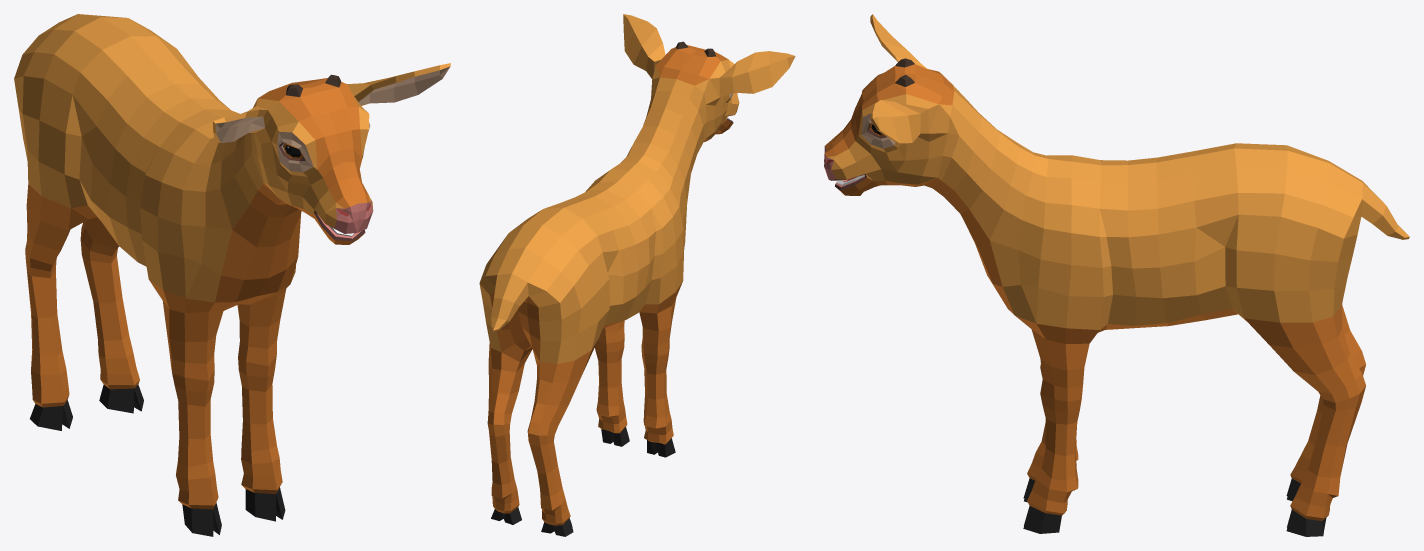
File: LowPoly_Goatling_4.obj
The picture shows the model from 3 angles, left to right: view 1: azimuth 30°, elevation 25°; view 2: azimuth 150°, elevation 25°; view 3: azimuth 270°, elevation 25°; orthographic projection. The views are drawn at different scales.
Visible parts, largest first — view 1: Goatling_4_Cube.005; view 2: Goatling_4_Cube.005; view 3: Goatling_4_Cube.005.
Part boxes in pixels (x1,y1,x2,y2): Goatling_4_Cube.005: (14,14,450,536); Goatling_4_Cube.005: (479,14,795,536); Goatling_4_Cube.005: (824,14,1409,536).
Size of the model in its own units: 0.2081 by 0.4165 by 0.4936.
